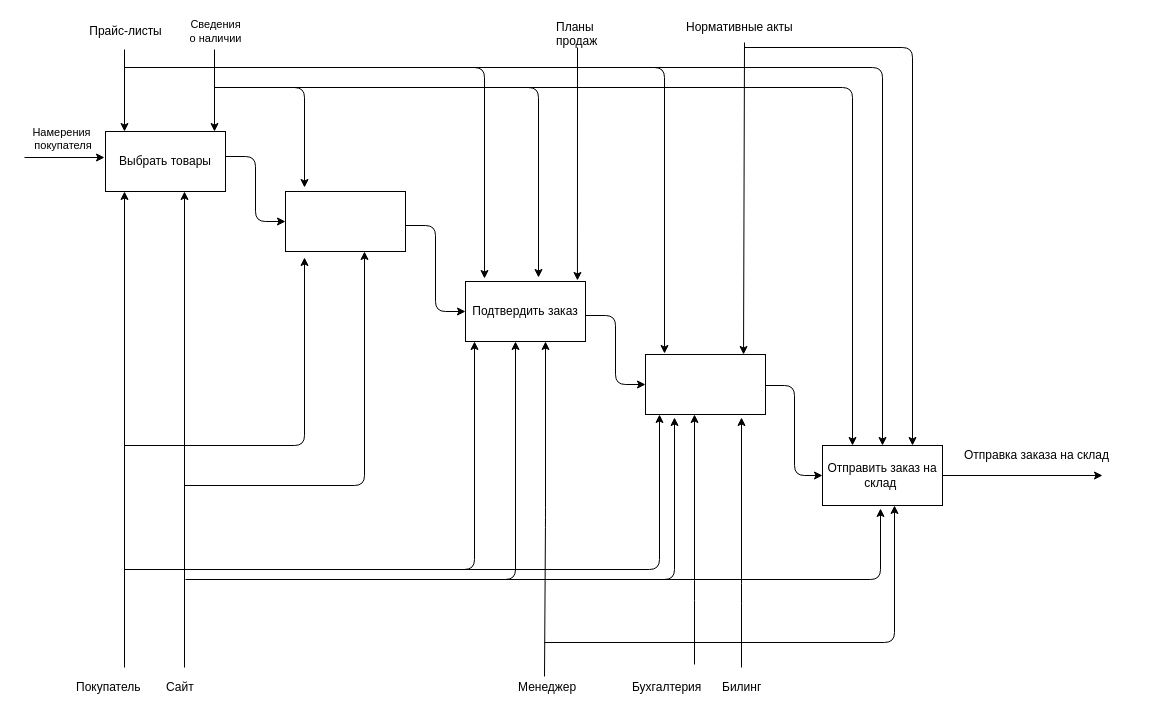
Some shapes in this 1150 by 714 pixel diagram are drawn without their labels. The shapes that lost their labels are listed below. From the top down, each one's centre as x and y in pixels, then its label:
point (345, 221): Добавить товары в корзину
point (705, 384): Оплатить заказ
